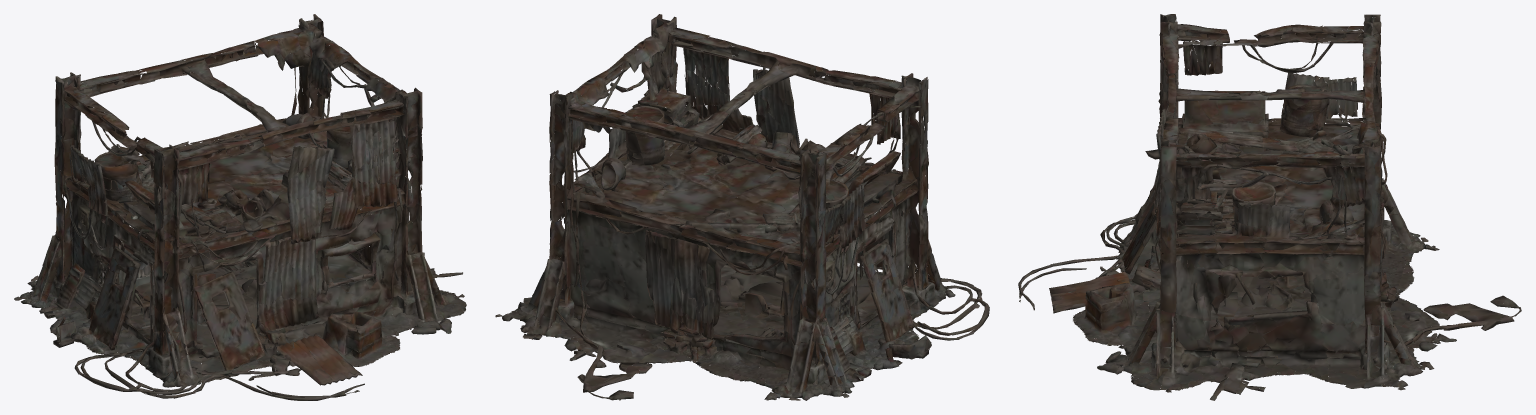
Rendered from ruined-utility-outpost-meshy-v1.glb.
3 renders of one model, left to right at view 1: azimuth 30°, elevation 25°; view 2: azimuth 150°, elevation 25°; view 3: azimuth 270°, elevation 25°, orthographic. The views are drawn at different scales.
Visible parts, largest first — view 1: Mesh_0; view 2: Mesh_0; view 3: Mesh_0.
Boxes of the visible parts, <box> form: Mesh_0: <box>14,14,466,400</box>; Mesh_0: <box>495,14,989,400</box>; Mesh_0: <box>1018,14,1521,400</box>.
Size of the model in its own units: 1.72 by 0.9352 by 1.87.
1 material, 1 textured.
